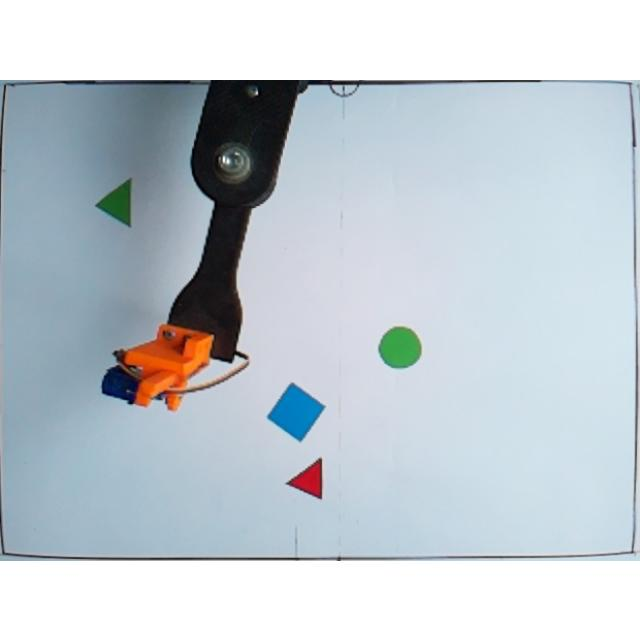blueSquare: (268, 381, 324, 442)
greenCircle: (378, 323, 422, 369)
greenTriangle: (97, 176, 135, 228)
redTriangle: (284, 456, 324, 498)
